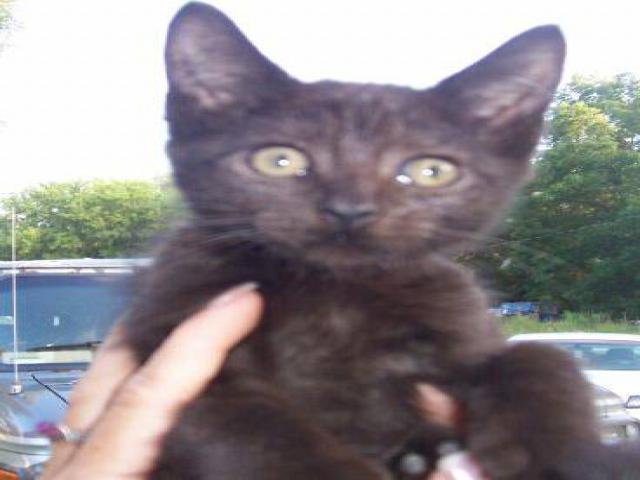cat: (50, 5, 587, 479)
